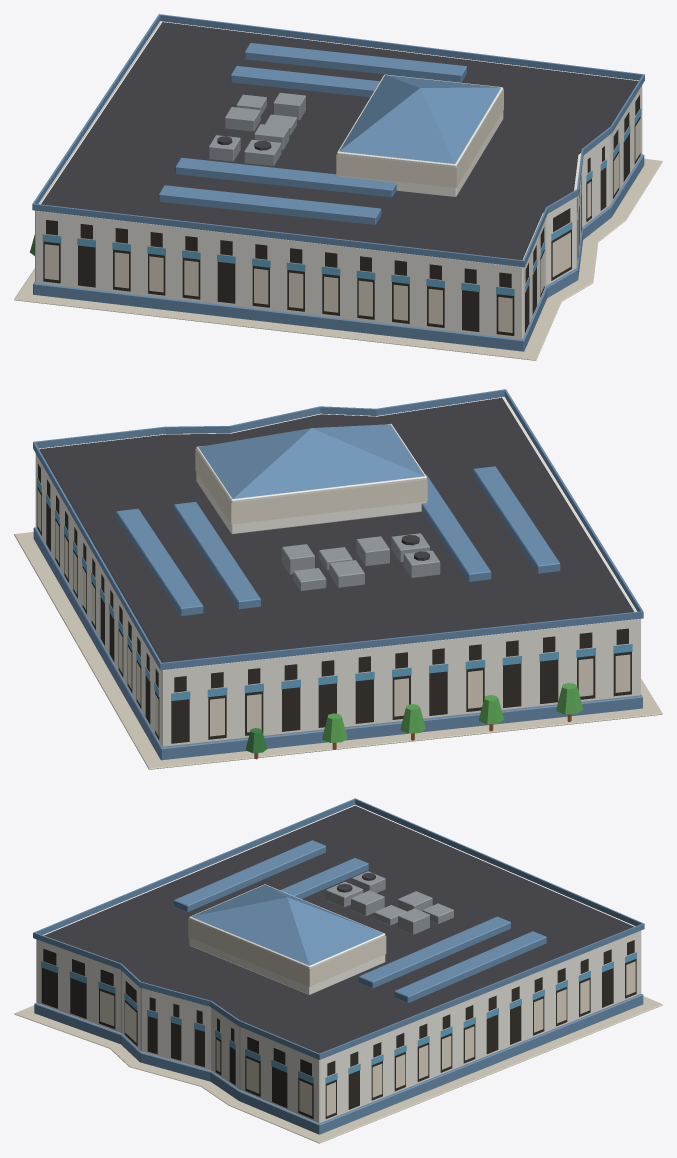
Rendered from rincon-annex.glb.
3 views of the same model, one above another, from view 1: azimuth 30°, elevation 25°; view 2: azimuth 150°, elevation 25°; view 3: azimuth 270°, elevation 25° (orthographic). The views are drawn at different scales.
Parts seen in each view (by area): view 1: rincon-annex_body, rincon-annex_night_glow; view 2: rincon-annex_body, rincon-annex_night_glow; view 3: rincon-annex_body, rincon-annex_night_glow.
Boxes of the visible parts, x1=… form: rincon-annex_body: x1=14, y1=14, x2=662, y2=360; rincon-annex_night_glow: x1=44, y1=89, x2=640, y2=332; rincon-annex_body: x1=14, y1=389, x2=662, y2=769; rincon-annex_night_glow: x1=37, y1=449, x2=630, y2=736; rincon-annex_body: x1=14, y1=798, x2=662, y2=1143; rincon-annex_night_glow: x1=100, y1=919, x2=635, y2=1115.
Size of the model in its own units: 129 by 29.7 by 131.
